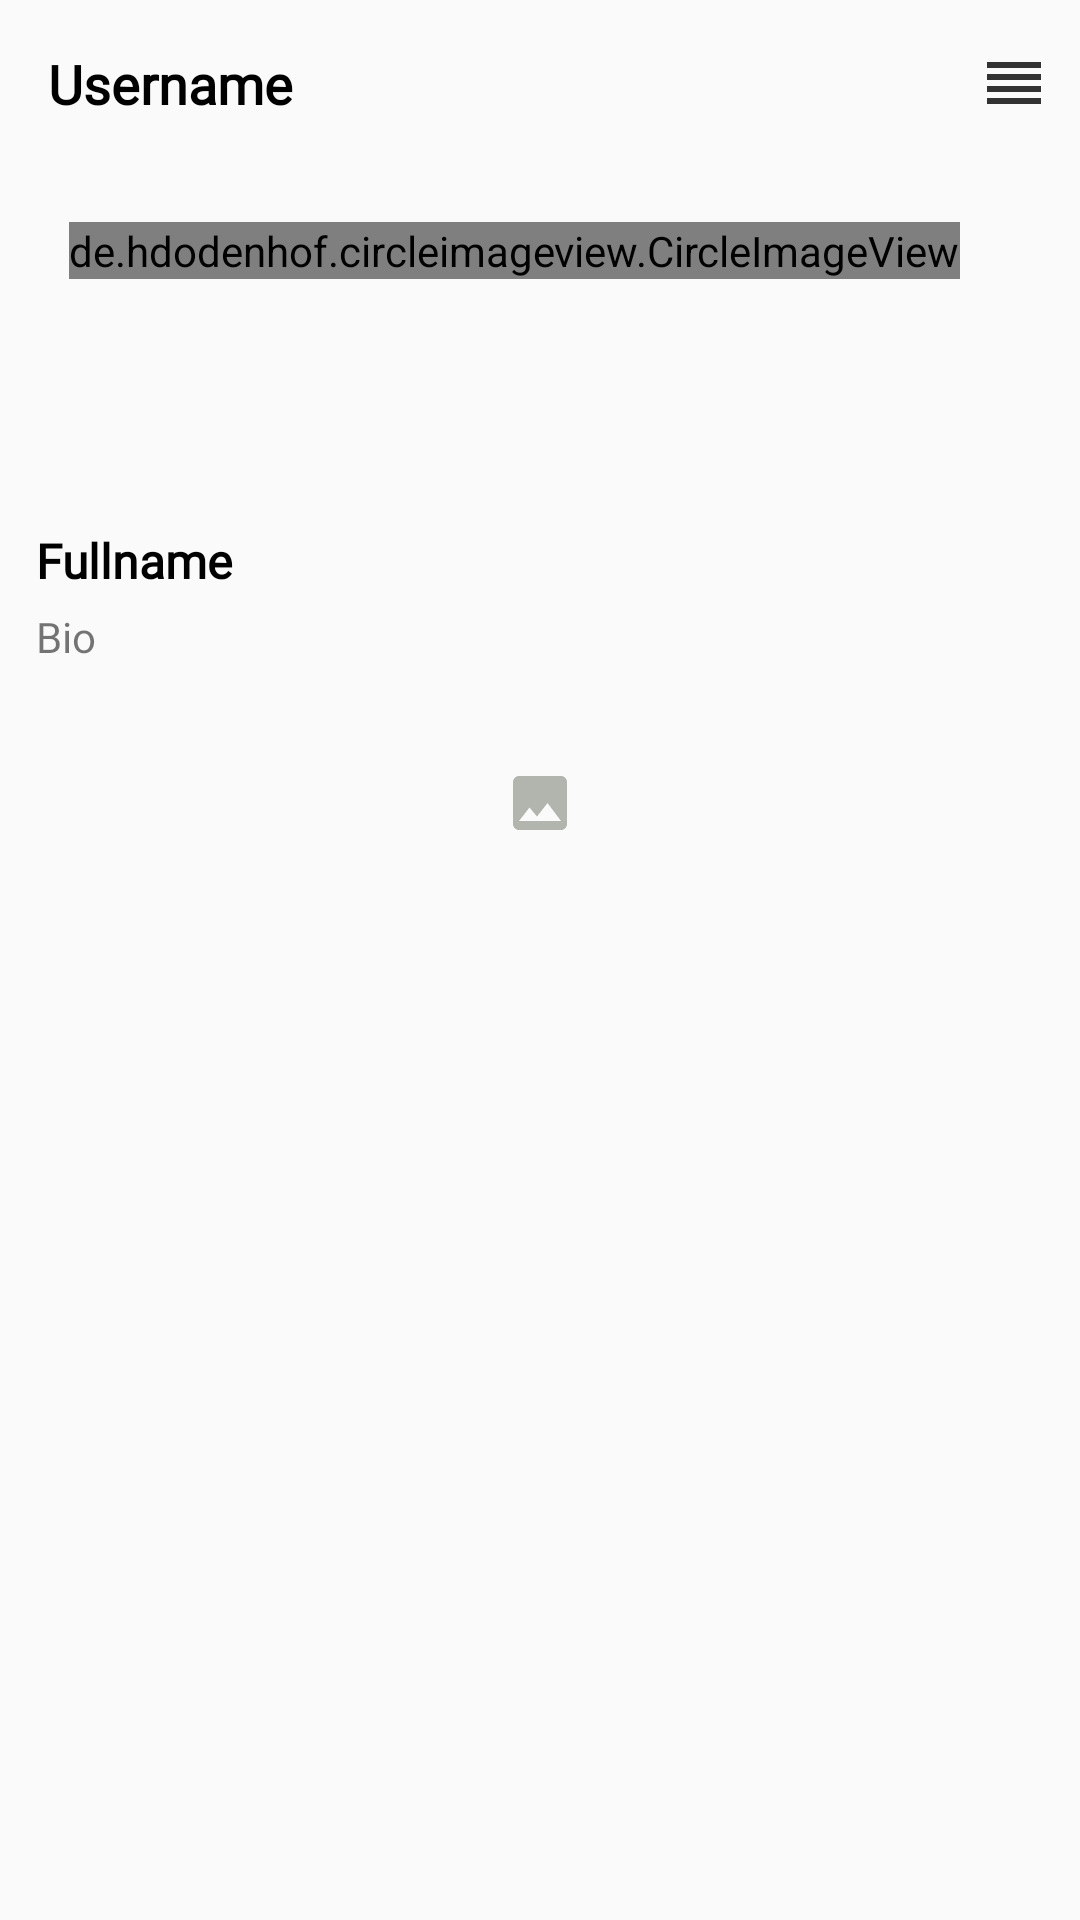

Icon click points for this 1080×1920 phone screenshot, format [x,y]:
options: [1014,83]
